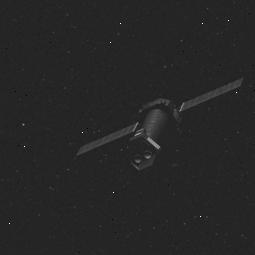xmm_newton: (75, 72, 220, 183)
